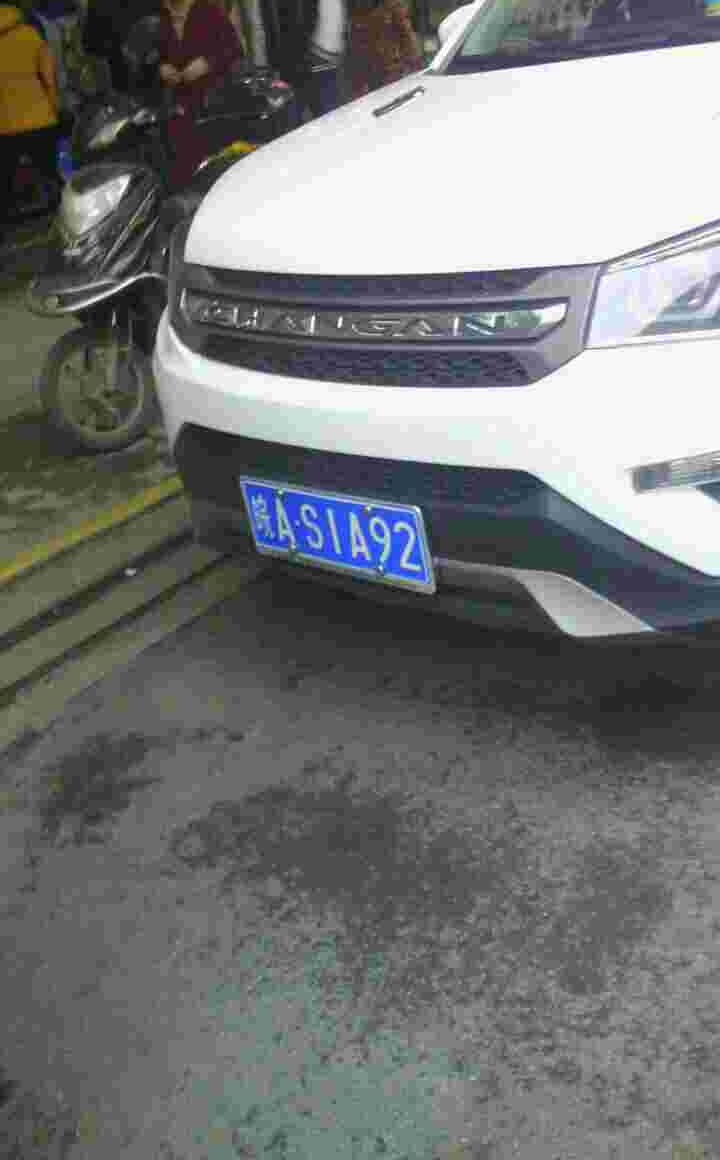license_plate: (250, 484, 430, 568)
